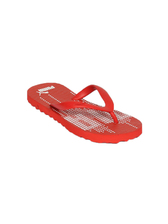shoes: (22, 80, 148, 144)
